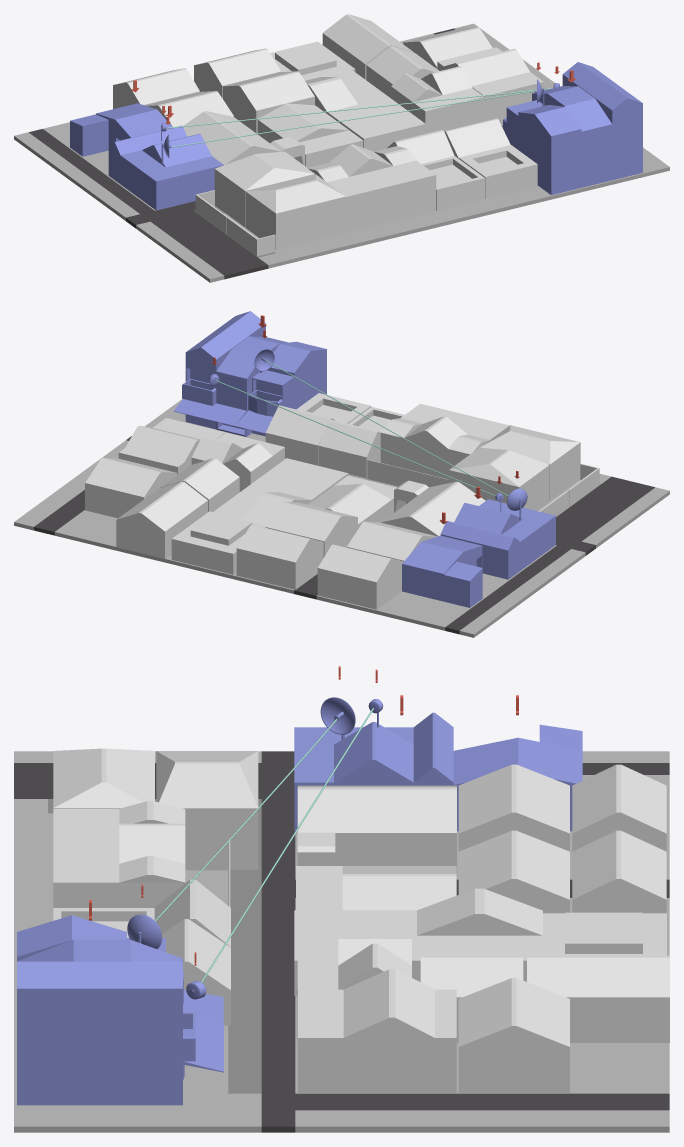
File: MAP.glb
The picture shows the model from 3 angles, top to bottom: view 1: azimuth 30°, elevation 25°; view 2: azimuth 150°, elevation 25°; view 3: azimuth 270°, elevation 25°; orthographic projection. The views are drawn at different scales.
Visible parts, largest first — view 1: RUMAH WARGA, bekami, AREA CANTEL, numiteg, JALAN CANTEL, briza, NurbsPath.001, NurbsPath; view 2: RUMAH WARGA, bekami, AREA CANTEL, JALAN CANTEL, numiteg, briza, NurbsPath.001; view 3: RUMAH WARGA, AREA CANTEL, bekami, JALAN CANTEL, numiteg, briza, RX, TX, NurbsPath.001.
Part boxes in pixels (<box>): RUMAH WARGA: <box>113,14,543,256</box>; bekami: <box>502,62,642,194</box>; AREA CANTEL: <box>14,23,669,282</box>; numiteg: <box>108,125,223,210</box>; JALAN CANTEL: <box>29,28,502,279</box>; briza: <box>70,103,172,156</box>; NurbsPath.001: <box>166,88,553,128</box>; NurbsPath: <box>171,91,534,147</box>; RUMAH WARGA: <box>85,393,599,609</box>; bekami: <box>173,311,326,436</box>; AREA CANTEL: <box>14,398,669,637</box>; JALAN CANTEL: <box>34,436,654,634</box>; numiteg: <box>440,499,555,579</box>; briza: <box>402,535,482,607</box>; NurbsPath.001: <box>216,380,495,495</box>; RUMAH WARGA: <box>53,748,669,1092</box>; AREA CANTEL: <box>14,751,669,1132</box>; bekami: <box>17,915,223,1105</box>; JALAN CANTEL: <box>14,751,669,1132</box>; numiteg: <box>294,712,453,831</box>; briza: <box>453,724,582,831</box>; RX: <box>320,697,355,739</box>; TX: <box>127,914,162,948</box>; NurbsPath.001: <box>201,708,373,982</box>.
Size of what is drawn, in the model's own units: 6.8 by 1.45 by 5.02.
